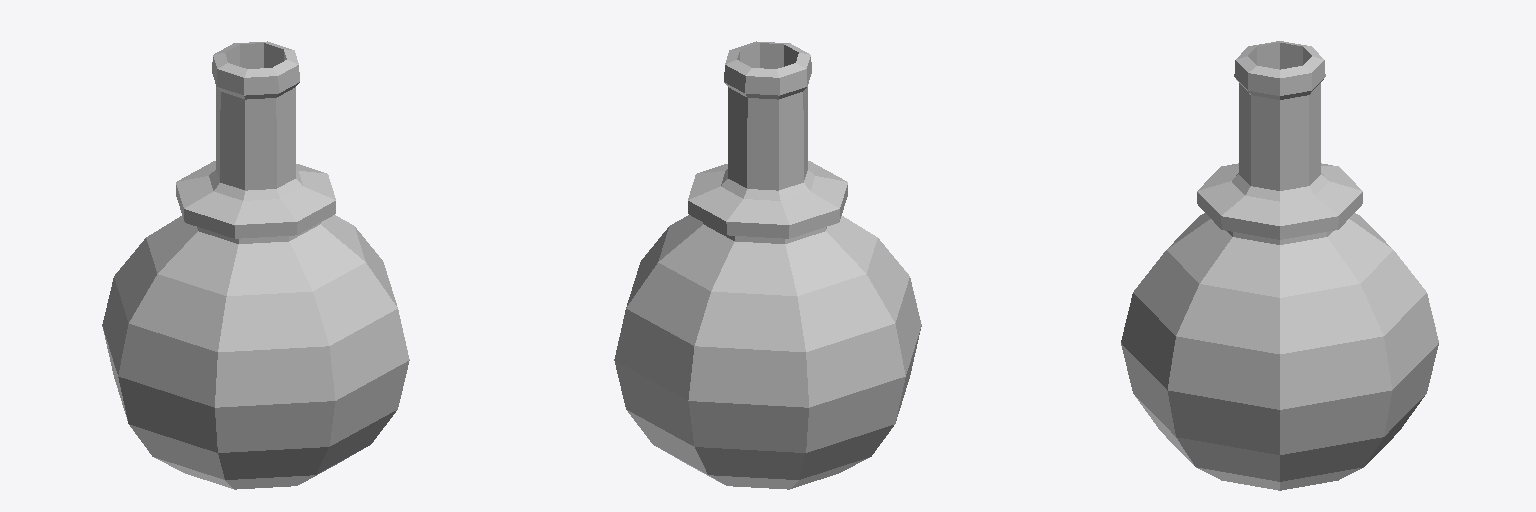
The model's file is empty_MediumPoly.obj.
3 renders of one model, left to right at view 1: azimuth 30°, elevation 25°; view 2: azimuth 150°, elevation 25°; view 3: azimuth 270°, elevation 25°, orthographic.
Visible parts, largest first — view 1: empty:pSphere9; view 2: empty:pSphere9; view 3: empty:pSphere9.
Boxes of the visible parts, x1,y1,x2,y2 form: empty:pSphere9: [102, 41, 409, 489]; empty:pSphere9: [614, 41, 921, 489]; empty:pSphere9: [1121, 41, 1438, 490].
Bounding box in the file's own units: 7.27 × 10.08 × 7.27.